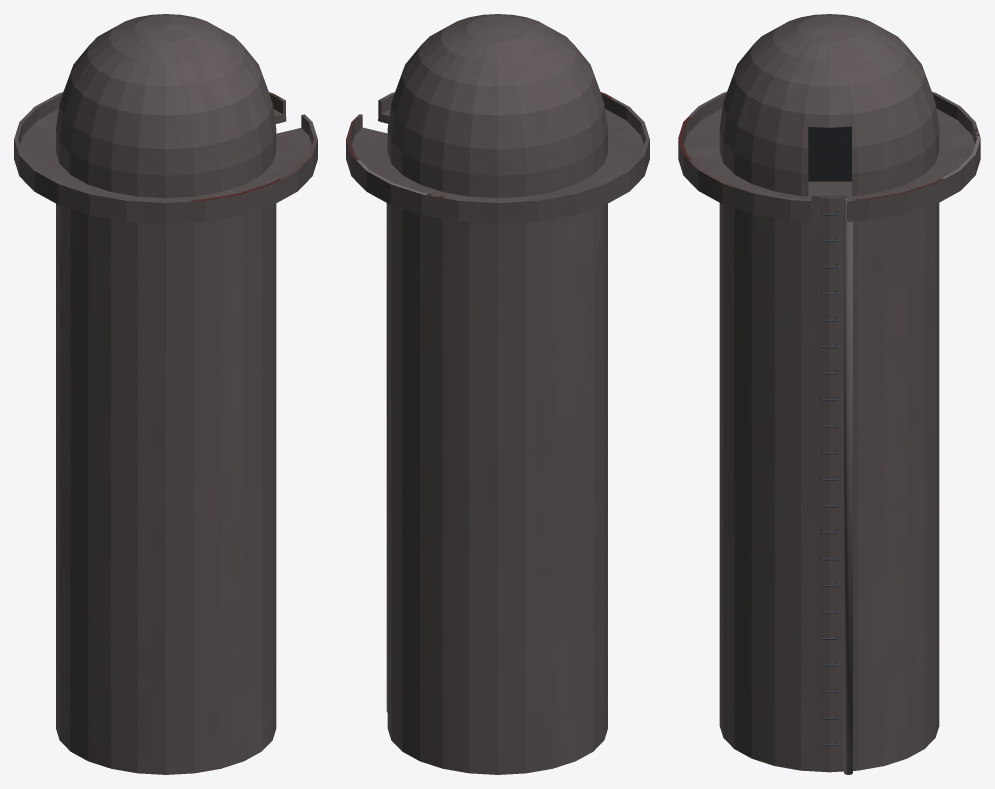
The model's file is Silo.fbx.
3 renders of one model, left to right at view 1: azimuth 30°, elevation 25°; view 2: azimuth 150°, elevation 25°; view 3: azimuth 270°, elevation 25°, orthographic.
Visible parts, largest first — view 1: Silo1; view 2: Silo1; view 3: Silo1.
Part boxes in pixels (x1,y1,x2,y2): Silo1: (14,14,317,774); Silo1: (346,14,649,774); Silo1: (678,14,980,774).
Bounding box in the file's own units: 1029 × 2650 × 1037.
